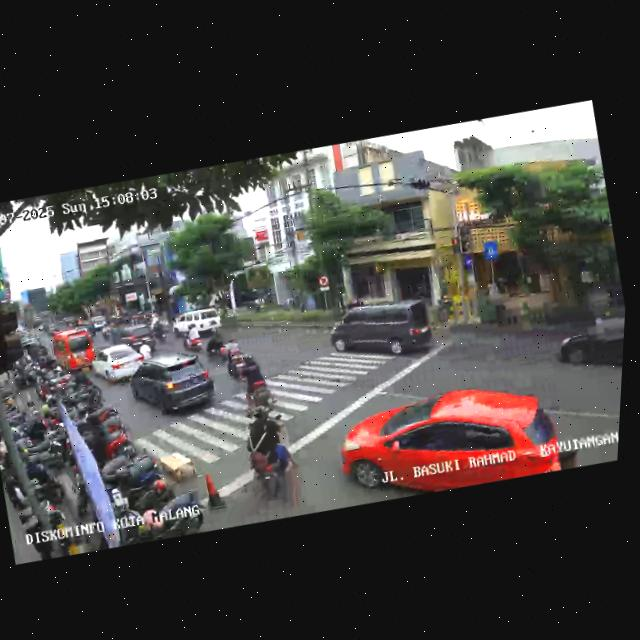car: (328, 365, 569, 514), (326, 289, 444, 372), (123, 346, 222, 426), (546, 307, 625, 390), (87, 338, 150, 390), (47, 323, 98, 377), (109, 321, 158, 359), (174, 304, 224, 341)
motorcycle: (235, 394, 303, 490), (233, 349, 278, 416), (217, 333, 252, 382), (179, 320, 206, 356), (202, 326, 227, 360), (150, 316, 169, 343)
